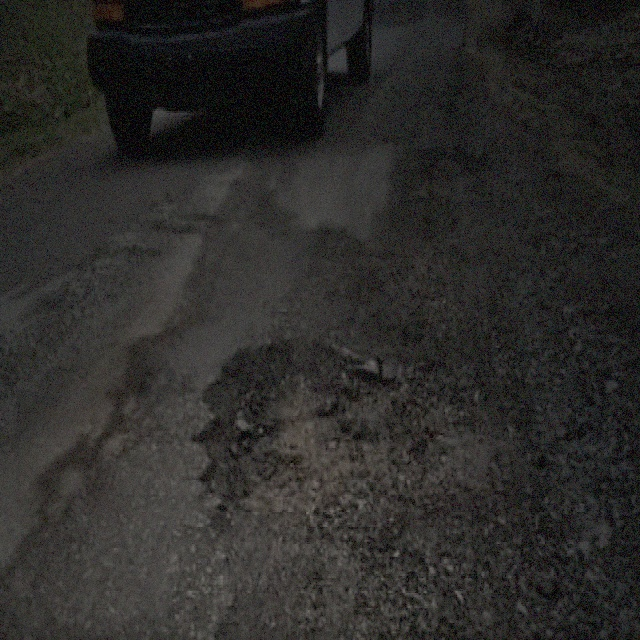pothole: (187, 333, 413, 533)
